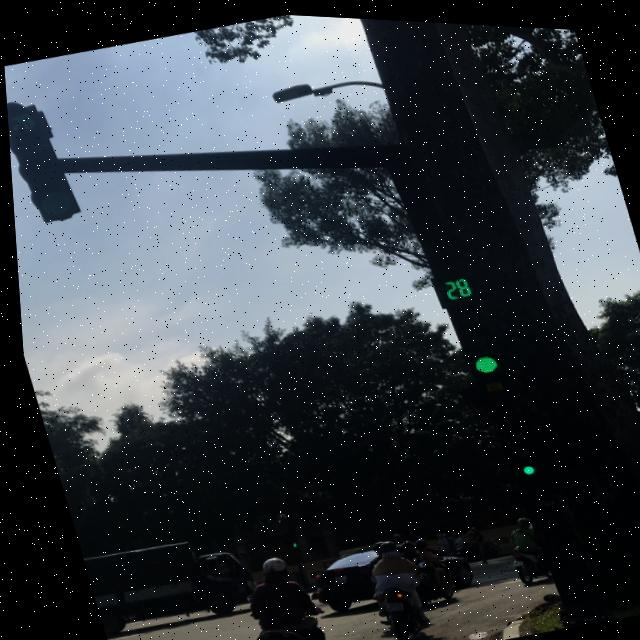Green: (428, 290, 507, 382), (486, 415, 541, 475)
